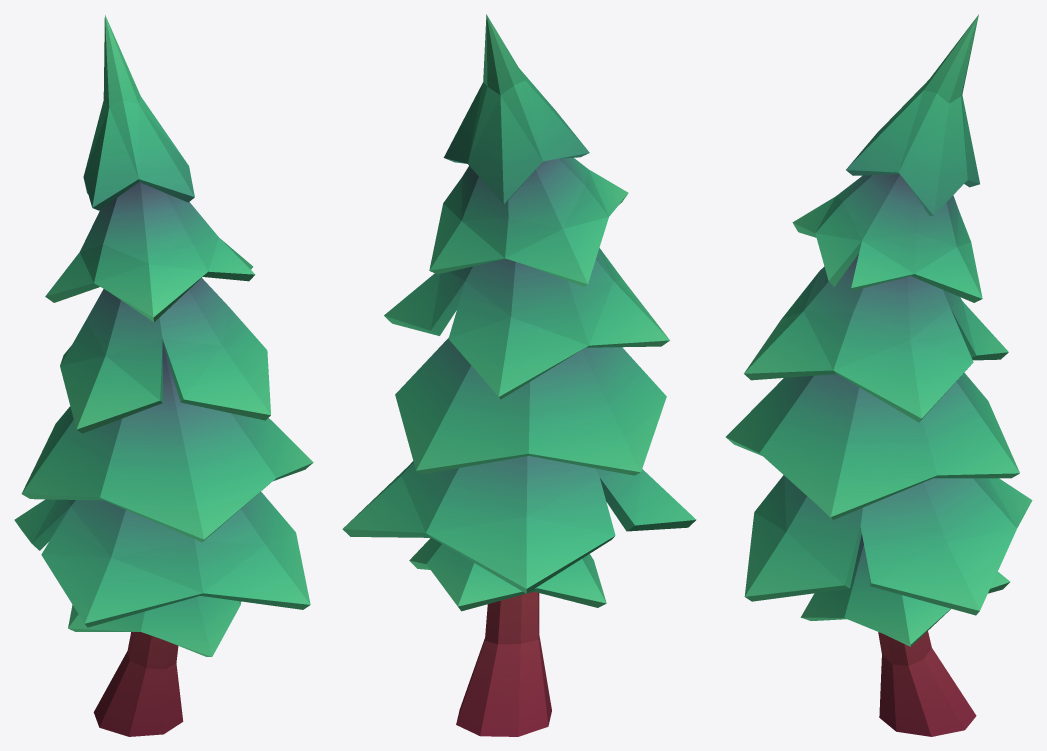
Rendered from Tree_Pine_1.fbx.
3 renders of one model, left to right at view 1: azimuth 30°, elevation 25°; view 2: azimuth 150°, elevation 25°; view 3: azimuth 270°, elevation 25°, orthographic. The views are drawn at different scales.
Visible parts, largest first — view 1: Pine Tree; view 2: Pine Tree; view 3: Pine Tree.
Part boxes in pixels (bbox=[...]): Pine Tree: bbox=[14, 15, 313, 736]; Pine Tree: bbox=[342, 14, 696, 736]; Pine Tree: bbox=[725, 14, 1032, 736].
Size of the model in its own units: 146 by 383 by 153.
